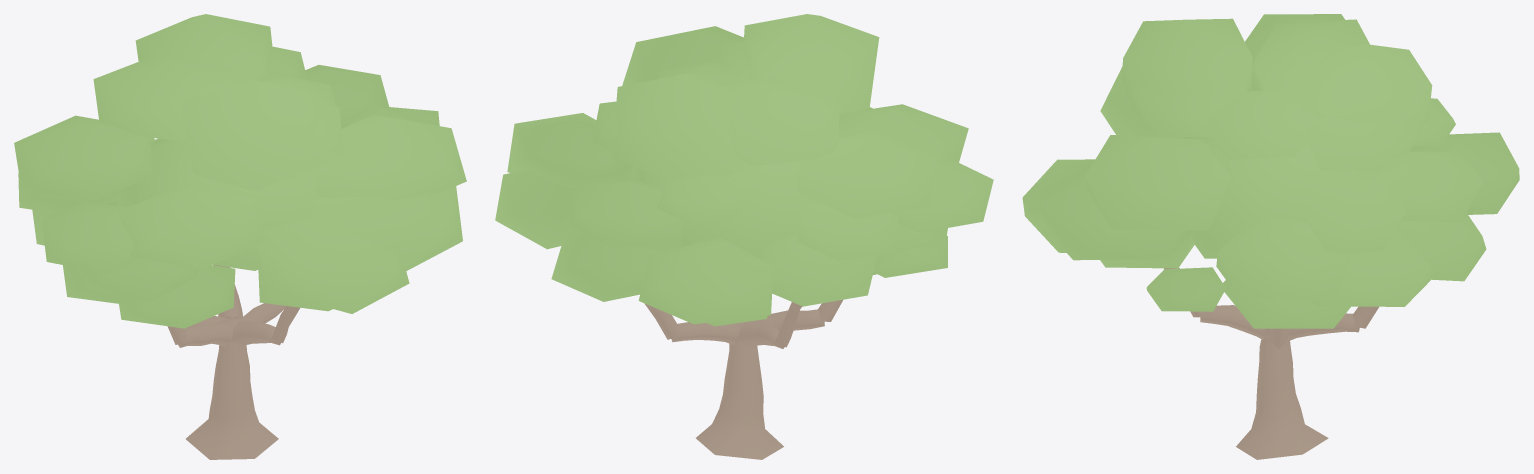
File: Blender_Oak_2_Far.glb
The picture shows the model from 3 angles, left to right: view 1: azimuth 30°, elevation 25°; view 2: azimuth 150°, elevation 25°; view 3: azimuth 270°, elevation 25°; orthographic projection. The views are drawn at different scales.
Visible parts, largest first — view 1: Blender_Oak_2_Far; view 2: Blender_Oak_2_Far; view 3: Blender_Oak_2_Far.
Boxes of the visible parts, x1=… form: Blender_Oak_2_Far: x1=14, y1=14, x2=466, y2=459; Blender_Oak_2_Far: x1=495, y1=14, x2=993, y2=459; Blender_Oak_2_Far: x1=1022, y1=14, x2=1519, y2=459.
Bounding box in the file's own units: 19 × 17.01 × 18.43.
